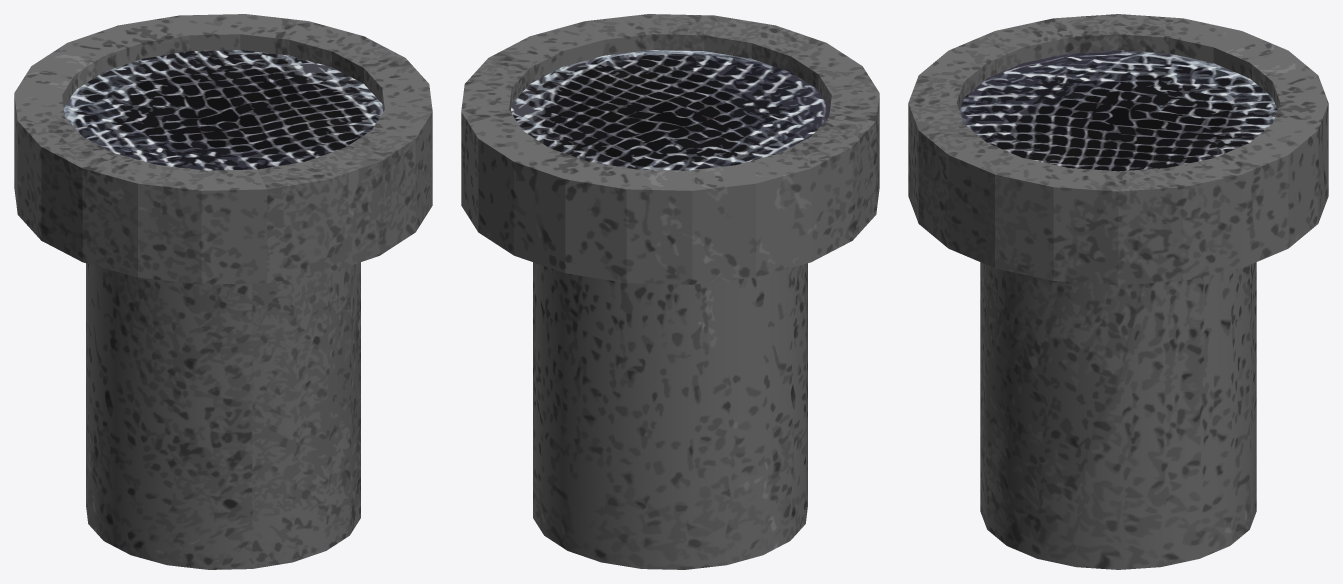
The model's file is Gimmick2_4.fbx.
3 views of the same model, side by side, from view 1: azimuth 30°, elevation 25°; view 2: azimuth 150°, elevation 25°; view 3: azimuth 270°, elevation 25° (orthographic).
Parts seen in each view (by area): view 1: pCylinder1; view 2: pCylinder1; view 3: pCylinder1.
Part boxes in pixels (<box>): pCylinder1: <box>14,14,432,569</box>; pCylinder1: <box>461,14,879,569</box>; pCylinder1: <box>908,14,1328,569</box>.
Size of the model in its own units: 25.41 by 25.41 by 27.27.
